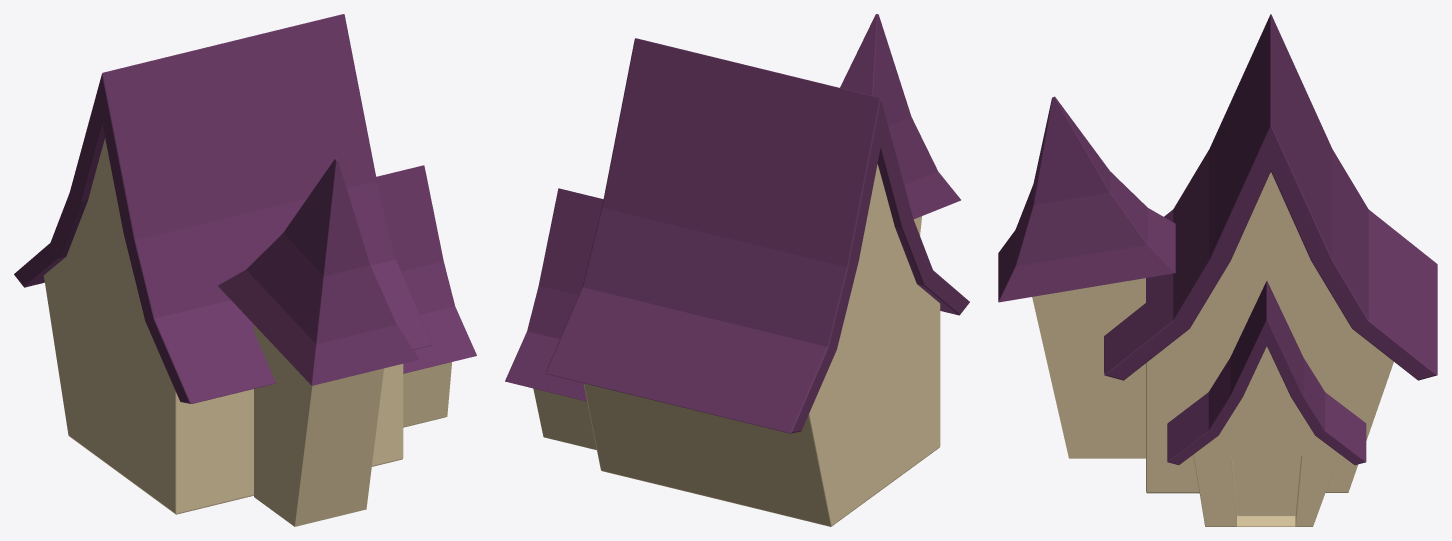
The model's file is House.fbx.
3 views of the same model, side by side, from view 1: azimuth 30°, elevation 25°; view 2: azimuth 150°, elevation 25°; view 3: azimuth 270°, elevation 25° (orthographic). The views are drawn at different scales.
Visible parts, largest first — view 1: Cube.003, Cube, Cube.002, Cube.001, Cube.005, Cube.004; view 2: Cube.003, Cube, Cube.005, Cube.002, Cube.004; view 3: Cube.003, Cube, Cube.002, Cube.004, Cube.001, Cube.005.
Part boxes in pixels (bbox=[...]): Cube.003: bbox=[14, 14, 432, 403]; Cube: bbox=[44, 138, 403, 514]; Cube.002: bbox=[218, 158, 419, 385]; Cube.001: bbox=[254, 325, 383, 526]; Cube.005: bbox=[376, 165, 476, 373]; Cube.004: bbox=[403, 362, 451, 427]; Cube.003: bbox=[545, 38, 969, 433]; Cube: bbox=[583, 164, 940, 526]; Cube.005: bbox=[505, 188, 603, 401]; Cube.002: bbox=[840, 14, 960, 218]; Cube.004: bbox=[533, 388, 596, 450]; Cube.003: bbox=[1104, 14, 1437, 380]; Cube: bbox=[1146, 172, 1393, 493]; Cube.002: bbox=[998, 96, 1175, 302]; Cube.004: bbox=[1193, 346, 1339, 526]; Cube.001: bbox=[1032, 278, 1145, 458]; Cube.005: bbox=[1167, 281, 1366, 464].
Size of the model in its own units: 2955 by 3492 by 3730.
